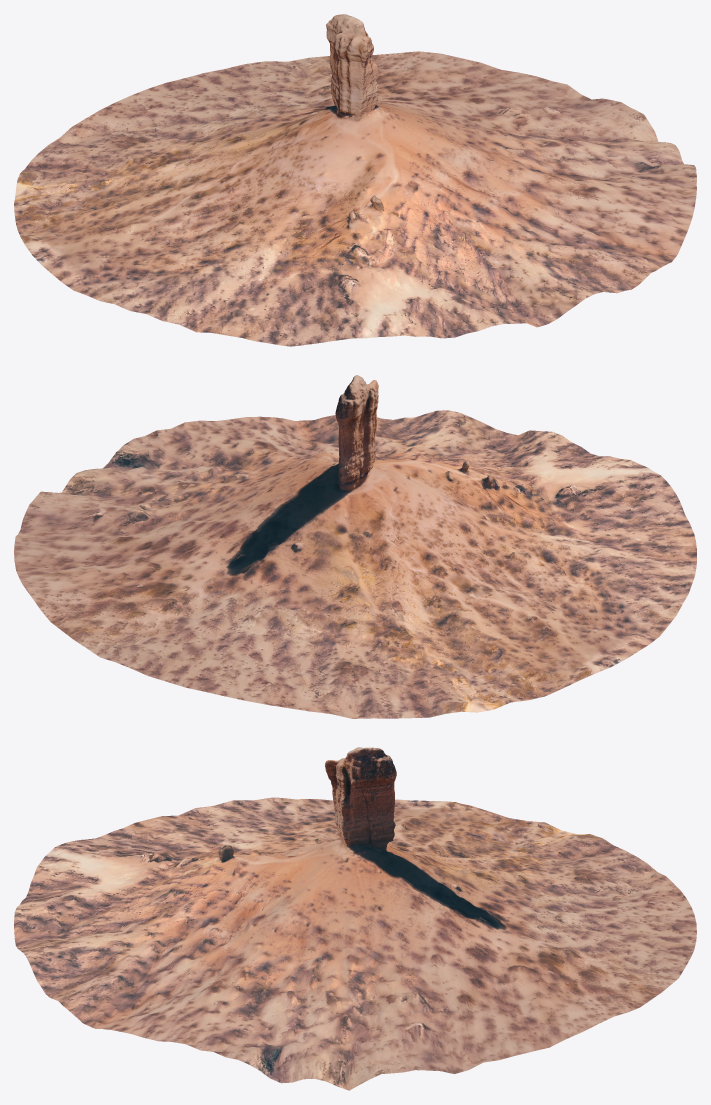
The model's file is finger_of_god_namibia_light.glb.
The picture shows the model from 3 angles, top to bottom: view 1: azimuth 30°, elevation 25°; view 2: azimuth 150°, elevation 25°; view 3: azimuth 270°, elevation 25°; orthographic projection.
Parts seen in each view (by area): view 1: Plane; view 2: Plane; view 3: Plane.
Boxes of the visible parts, box(x1,y1,x2,y2) form: Plane: box(14, 14, 696, 346); Plane: box(14, 375, 696, 718); Plane: box(14, 747, 696, 1090).
Bounding box in the file's own units: 1558 × 496 × 1554.
1 material, 1 textured.
